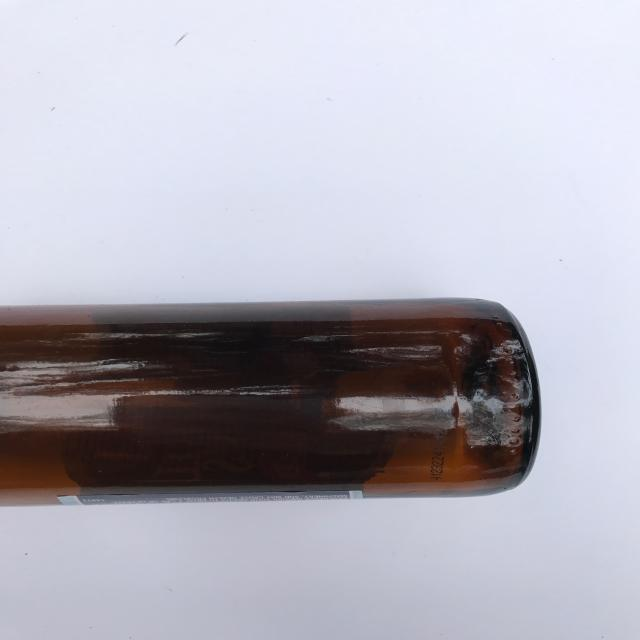glass: (4, 281, 551, 510)
